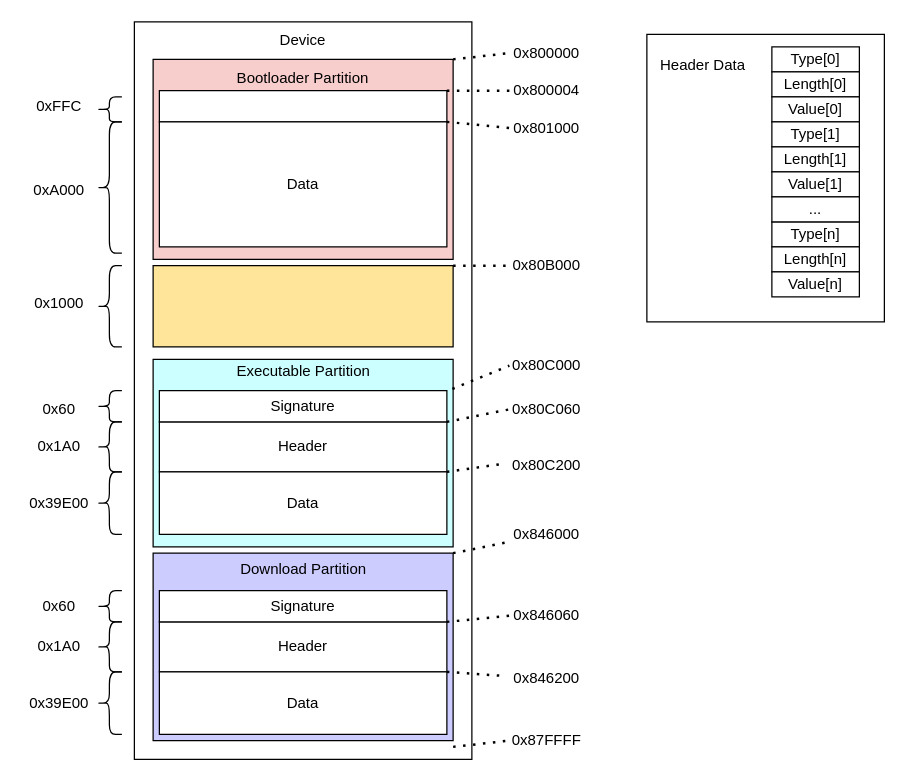
This 906x781 diagram has some shape labels left out. Here are the shapes that lost their labels. From the top down, the box of each, then its label:
(158, 89, 447, 122): IVT
(152, 264, 453, 347): Keystore Partition
